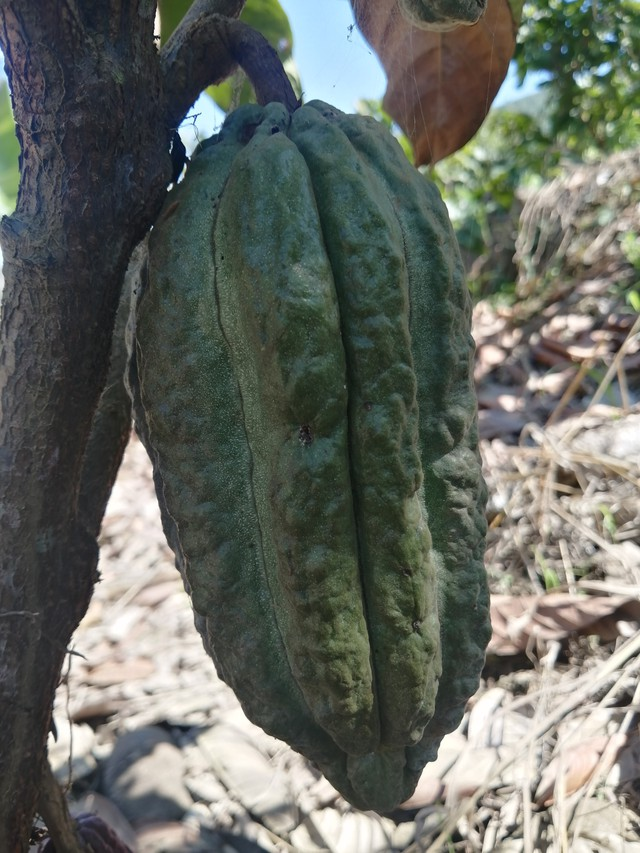Health: (97, 80, 519, 822)
